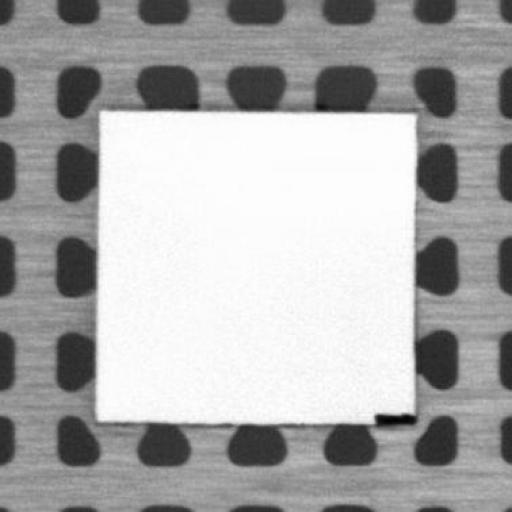DIE_BROKEN: (370, 408, 418, 427)
